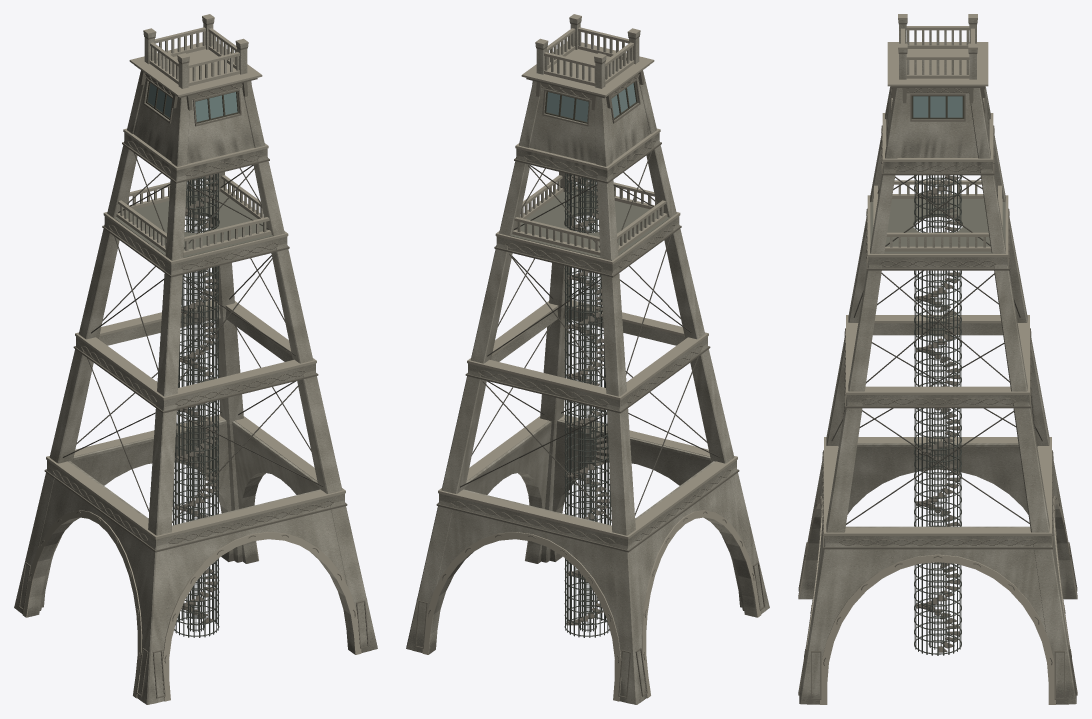
Rendered from huangpu-xiaonanmen-fire-bell-tower-lod.glb.
3 views of the same model, side by side, from view 1: azimuth 30°, elevation 25°; view 2: azimuth 150°, elevation 25°; view 3: azimuth 270°, elevation 25° (orthographic). The views are drawn at different scales.
Parts seen in each view (by area): view 1: 小南门警钟楼四足塔架与瞭望室; view 2: 小南门警钟楼四足塔架与瞭望室; view 3: 小南门警钟楼四足塔架与瞭望室.
Boxes of the visible parts, left/top/right/bottom form: 小南门警钟楼四足塔架与瞭望室: left=14, top=14, right=377, bottom=704; 小南门警钟楼四足塔架与瞭望室: left=406, top=14, right=769, bottom=704; 小南门警钟楼四足塔架与瞭望室: left=798, top=14, right=1077, bottom=704.
Size of the model in its own units: 14.49 by 35.2 by 14.49.
Materials: 9 (1 with a texture image).
